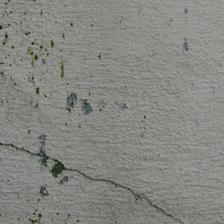Crack: (2, 70, 179, 151)
